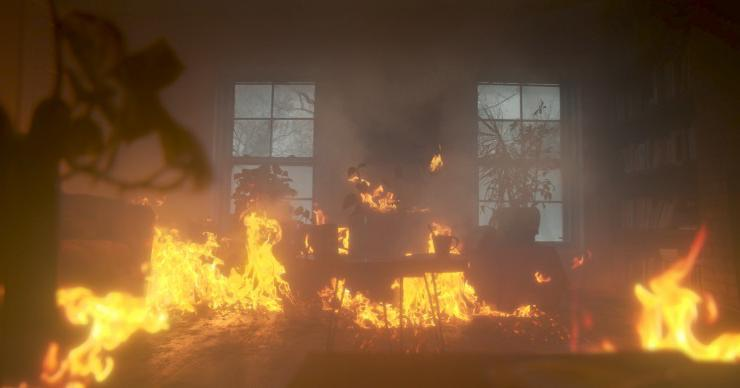fire: (48, 181, 295, 371), (308, 161, 516, 339), (625, 232, 734, 366)
